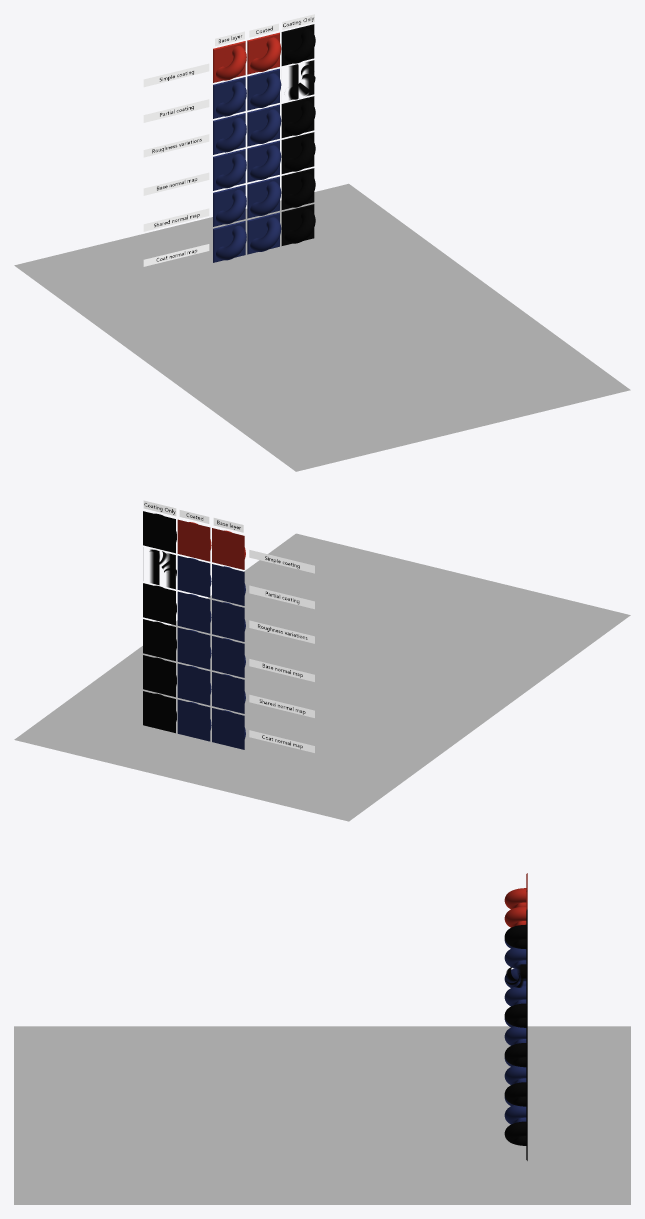
The picture shows the model from 3 angles, top to bottom: view 1: azimuth 30°, elevation 25°; view 2: azimuth 150°, elevation 25°; view 3: azimuth 270°, elevation 25°; orthographic projection. The views are drawn at different scales.
Visible parts, largest first — view 1: floor, CoatOnlySample, R4_CoatOnlySample, R3_CoatOnlySample, R5_CoatOnlySample, R2_CoatOnlySample, R2_ClearCoatSample, R1_ClearCoatSample, R3_ClearCoatSample, ClearCoatSample, R4_ClearCoatSample, R5_ClearCoatSample (+7 smaller); view 2: floor, R1_ClearCoatSample, ClearCoatSample, R2_ClearCoatSample, R3_ClearCoatSample, R4_ClearCoatSample, R5_ClearCoatSample, R4_CoatOnlySample, CoatOnlySample, R2_CoatOnlySample, R3_CoatOnlySample, R5_BaseLayerSample (+13 smaller); view 3: floor, CoatOnlySample, R2_CoatOnlySample, R3_CoatOnlySample, R5_CoatOnlySample, R4_CoatOnlySample.
Part boxes in pixels (x1,y1,x2,y2): floor: (14,183,630,471); CoatOnlySample: (281,24,315,65); R4_CoatOnlySample: (281,204,315,245); R3_CoatOnlySample: (281,132,315,173); R5_CoatOnlySample: (281,168,315,209); R2_CoatOnlySample: (281,96,315,137); R2_ClearCoatSample: (247,104,281,146); R1_ClearCoatSample: (247,68,281,110); R3_ClearCoatSample: (247,140,281,182); ClearCoatSample: (247,32,281,74); R4_ClearCoatSample: (247,212,281,254); R5_ClearCoatSample: (247,176,281,218); floor: (14,533,630,821); R1_ClearCoatSample: (177,555,211,597); ClearCoatSample: (177,519,211,561); R2_ClearCoatSample: (177,591,211,633); R3_ClearCoatSample: (177,627,211,669); R4_ClearCoatSample: (177,699,211,741); R5_ClearCoatSample: (177,663,211,705); R4_CoatOnlySample: (143,691,176,733); CoatOnlySample: (143,511,176,553); R2_CoatOnlySample: (143,583,176,625); R3_CoatOnlySample: (143,619,176,661); R5_BaseLayerSample: (212,672,245,713); floor: (14,1026,630,1204); CoatOnlySample: (504,910,527,963); R2_CoatOnlySample: (504,1003,527,1042); R3_CoatOnlySample: (504,1042,527,1081); R5_CoatOnlySample: (504,1081,527,1121); R4_CoatOnlySample: (504,1121,527,1160).
Bounding box in the file's own units: 20.46 × 13.1 × 29.84.
Materials: 20 (2 with a texture image).
